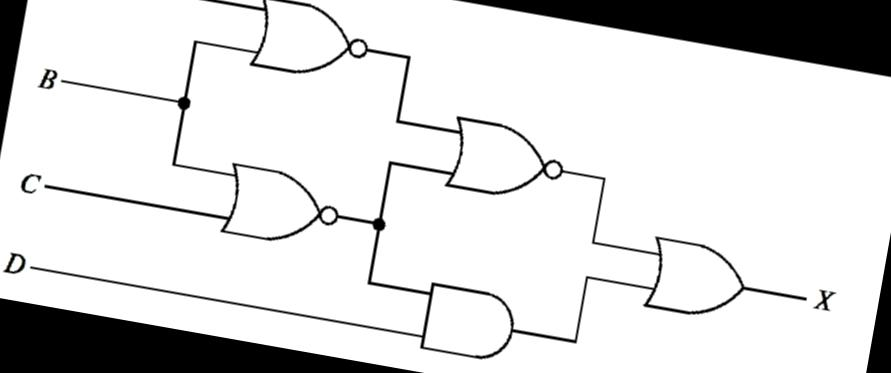and: (408, 272, 528, 371)
nor: (212, 155, 350, 258), (438, 109, 576, 212), (240, 0, 380, 90)
or: (634, 226, 762, 330)
